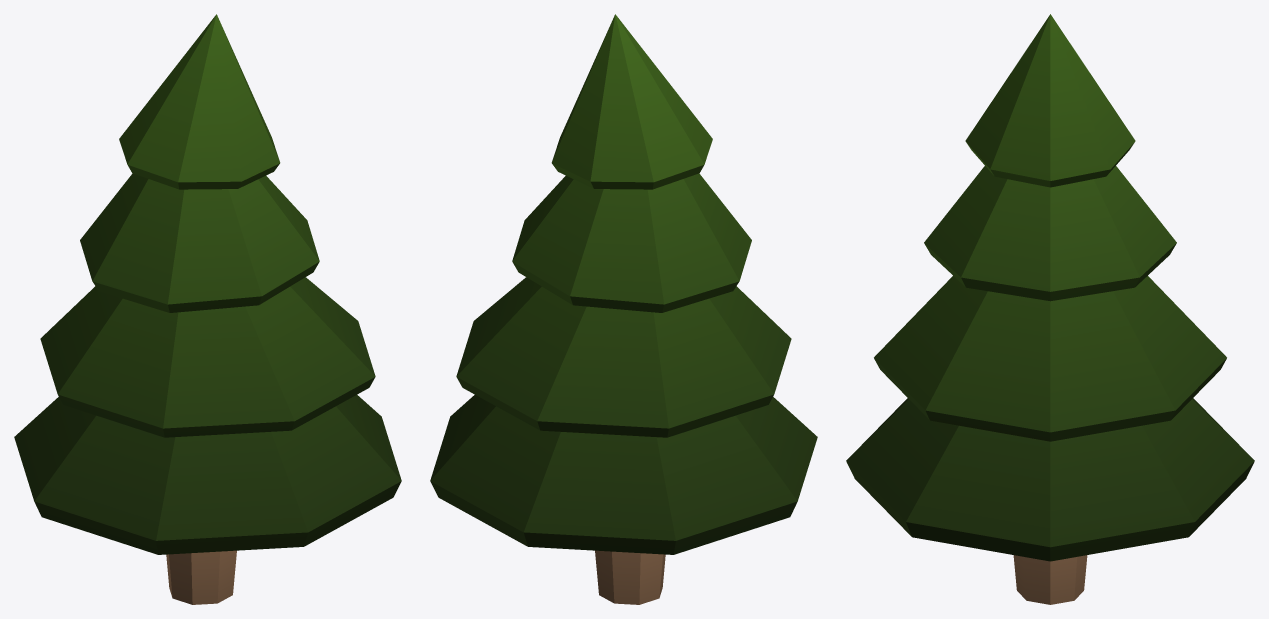
The model's file is Tree03.fbx.
The picture shows the model from 3 angles, left to right: view 1: azimuth 30°, elevation 25°; view 2: azimuth 150°, elevation 25°; view 3: azimuth 270°, elevation 25°; orthographic projection.
Parts seen in each view (by area): view 1: Tree03; view 2: Tree03; view 3: Tree03.
Part boxes in pixels (x1,y1,x2,y2): Tree03: (14,14,401,604); Tree03: (430,14,817,604); Tree03: (846,14,1254,604).
Bounding box in the file's own units: 1.85 × 2.92 × 1.85.
1 material, 1 textured.
